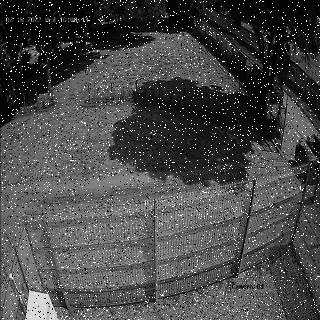car: (294, 132, 319, 172)
